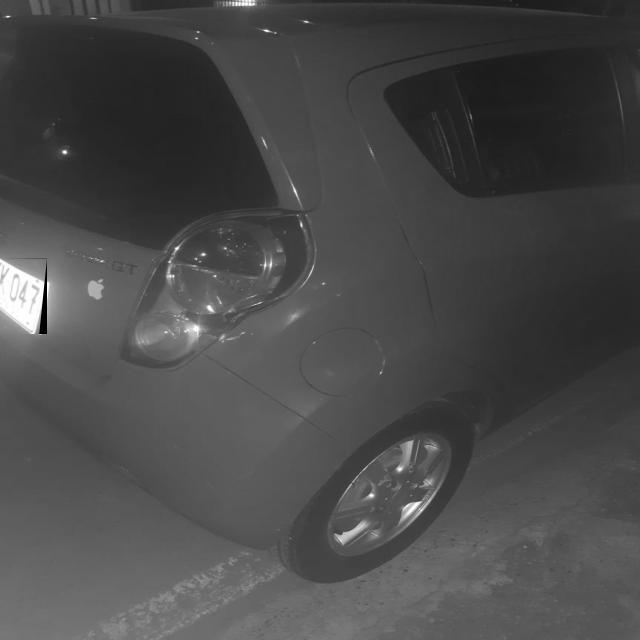plate: (0, 258, 47, 334)
